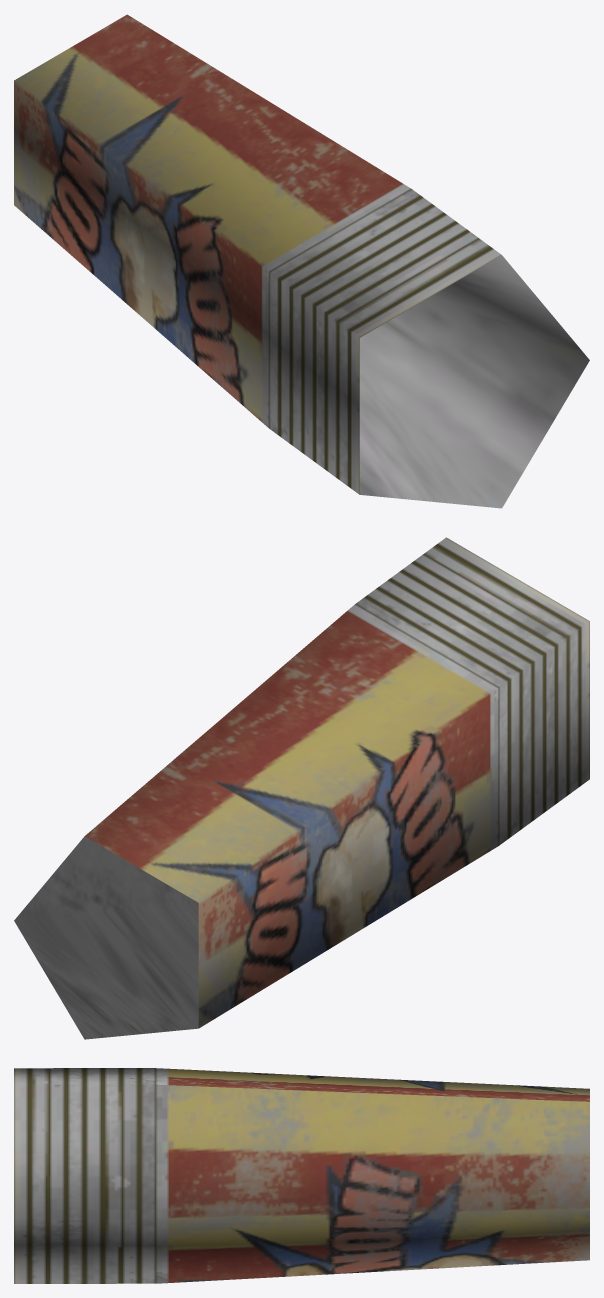
File: popcorn_cup_stack_LOD1.obj
3 renders of one model, top to bottom at view 1: azimuth 30°, elevation 25°; view 2: azimuth 150°, elevation 25°; view 3: azimuth 270°, elevation 25°, orthographic. The views are drawn at different scales.
Parts seen in each view (by area): view 1: mtl_pocorn_cup; view 2: mtl_pocorn_cup; view 3: mtl_pocorn_cup.
Boxes of the visible parts, x1,y1,x2,y2 form: mtl_pocorn_cup: [14, 14, 589, 508]; mtl_pocorn_cup: [14, 537, 589, 1039]; mtl_pocorn_cup: [14, 1068, 589, 1283].
Size of the model in its own units: 12.17 by 12.8 by 33.55.
